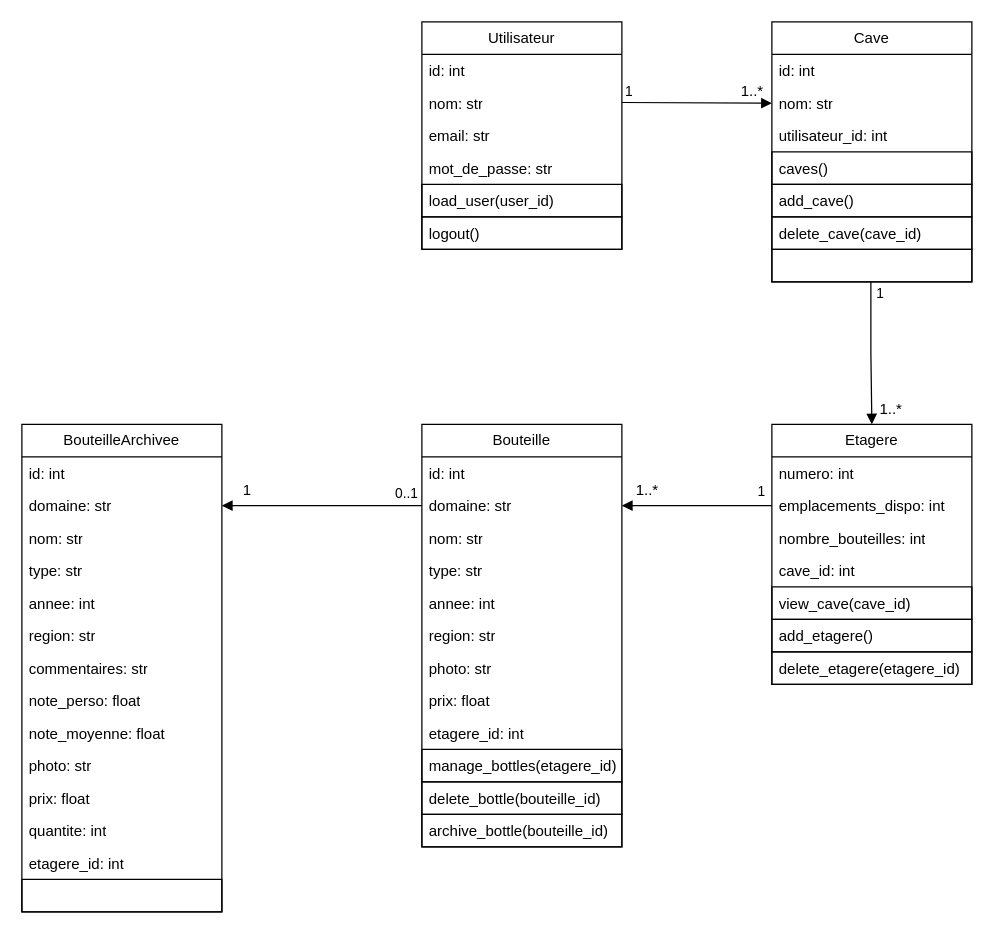
Image size: 994x938. Some labels were removed from this diagram. Here are the shapes that lost their labels. From the top down, the centre of each, then its label:
pixel 871 265: export_cave_json(cave_id)
pixel 121 895: view_archive()
